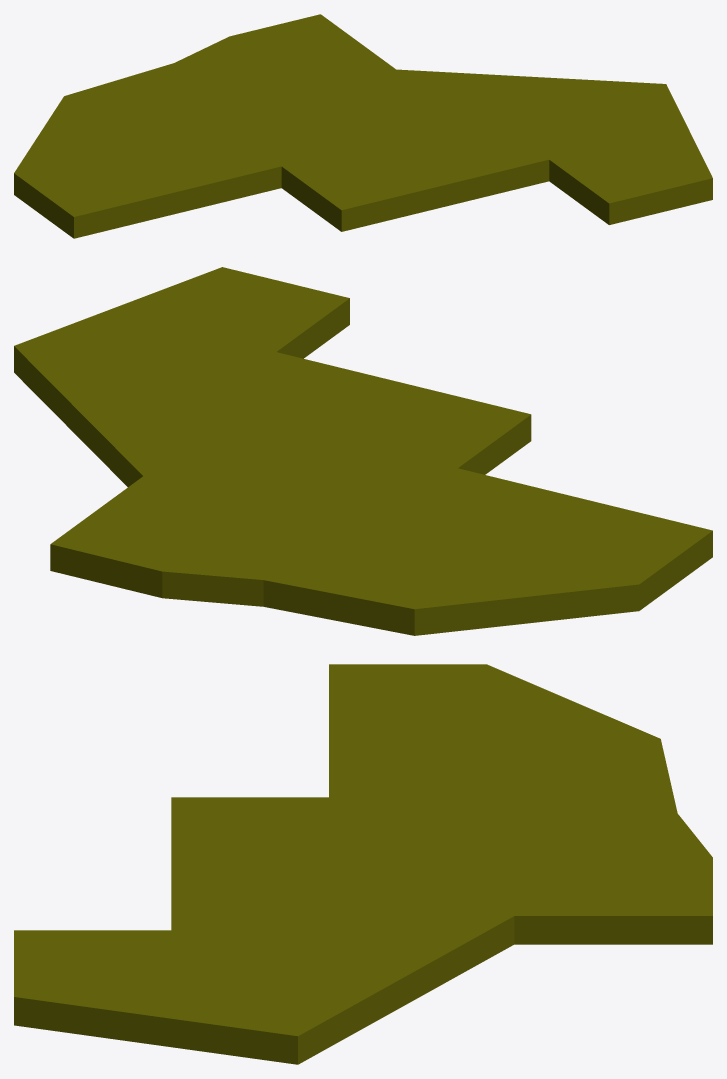
Rendered from x_0_boloto_27_1_rmstrd.fbx.
3 views of the same model, one above another, from view 1: azimuth 30°, elevation 25°; view 2: azimuth 150°, elevation 25°; view 3: azimuth 270°, elevation 25° (orthographic). The views are drawn at different scales.
Visible parts, largest first — view 1: x_0_boloto_27_1_rmstrd1; view 2: x_0_boloto_27_1_rmstrd1; view 3: x_0_boloto_27_1_rmstrd1.
Part boxes in pixels (<box>): x_0_boloto_27_1_rmstrd1: <box>14,14,712,238</box>; x_0_boloto_27_1_rmstrd1: <box>14,267,712,635</box>; x_0_boloto_27_1_rmstrd1: <box>14,664,712,1064</box>.
Bounding box in the file's own units: 5.59 × 0.2 × 4.44.
